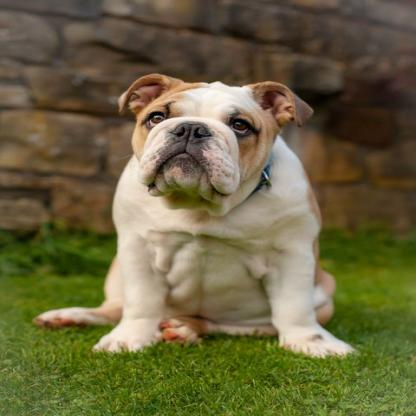British Bulldog: (80, 54, 378, 354)
